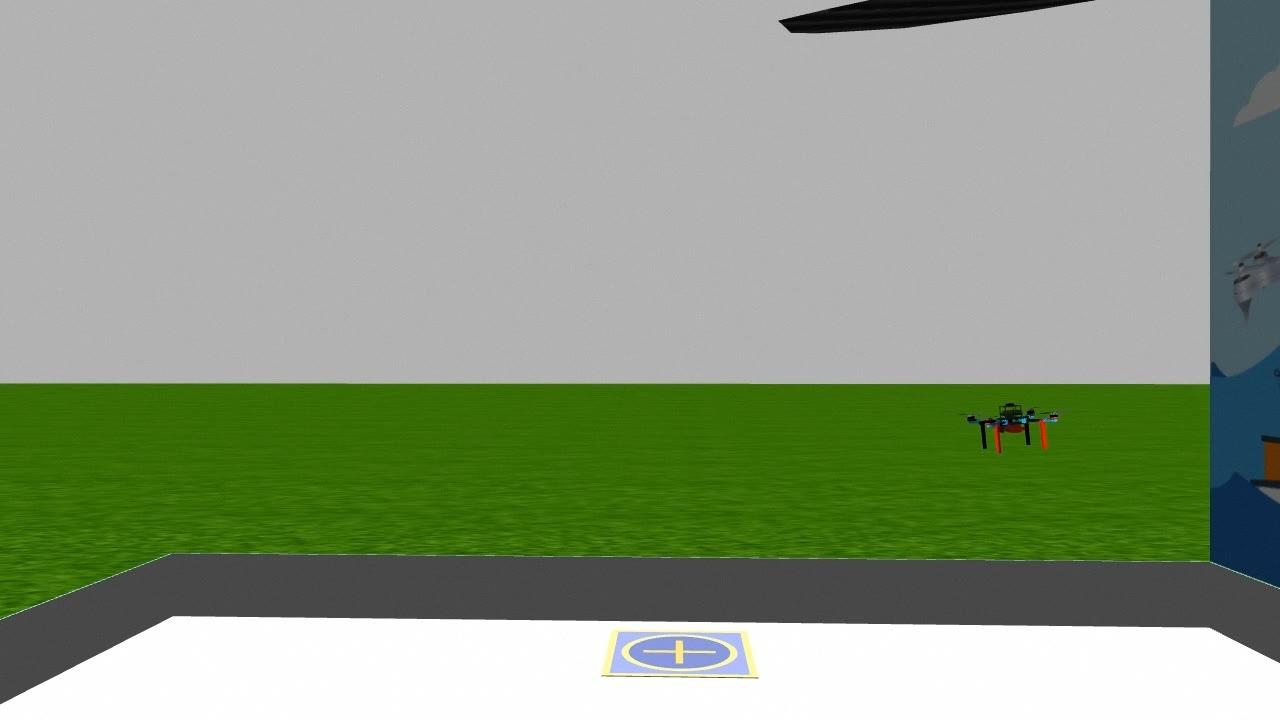UAV: (959, 393, 1067, 466)
